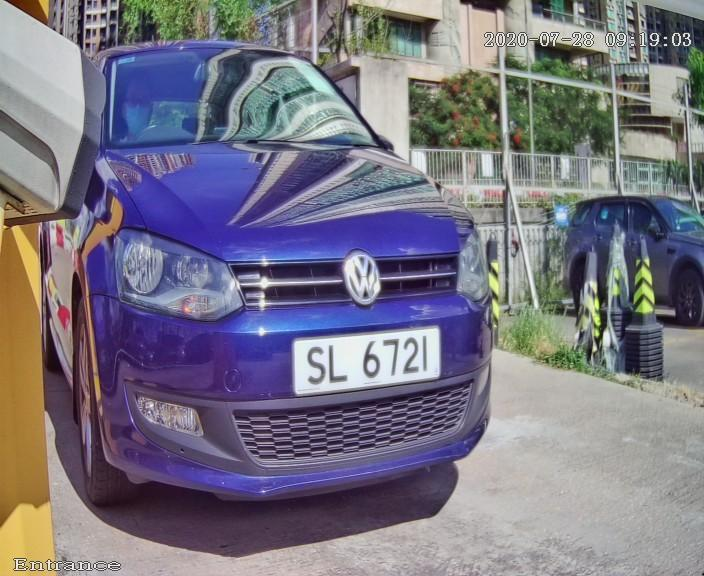privatecar: (1, 16, 557, 538)
